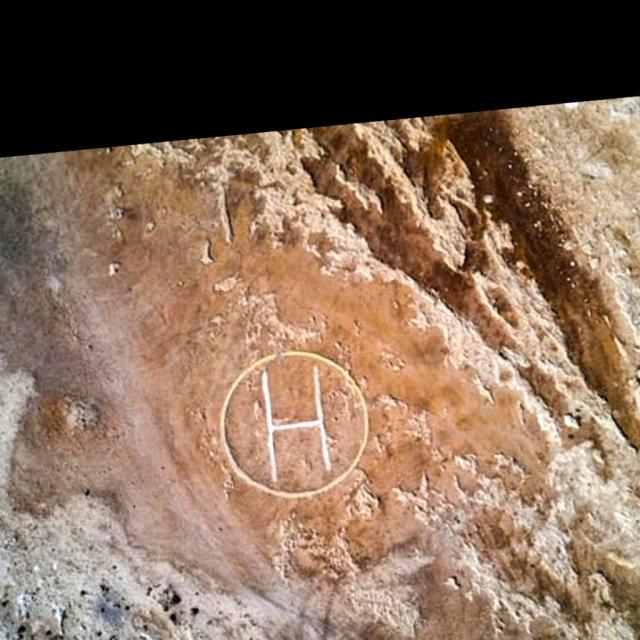helipad: (214, 345, 373, 501)
